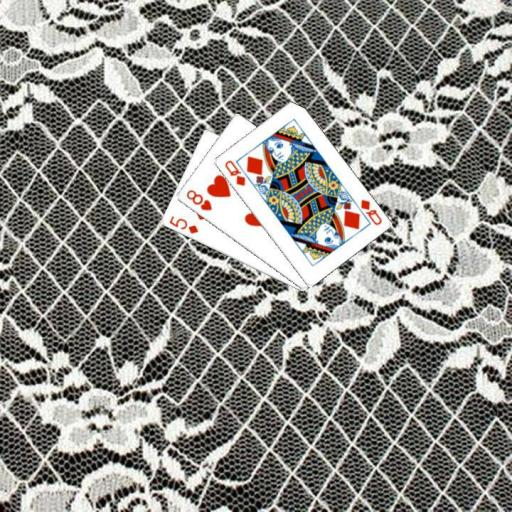5D: (166, 213, 200, 236)
8H: (183, 186, 213, 212)
QD: (221, 157, 247, 188), (357, 196, 383, 227)
